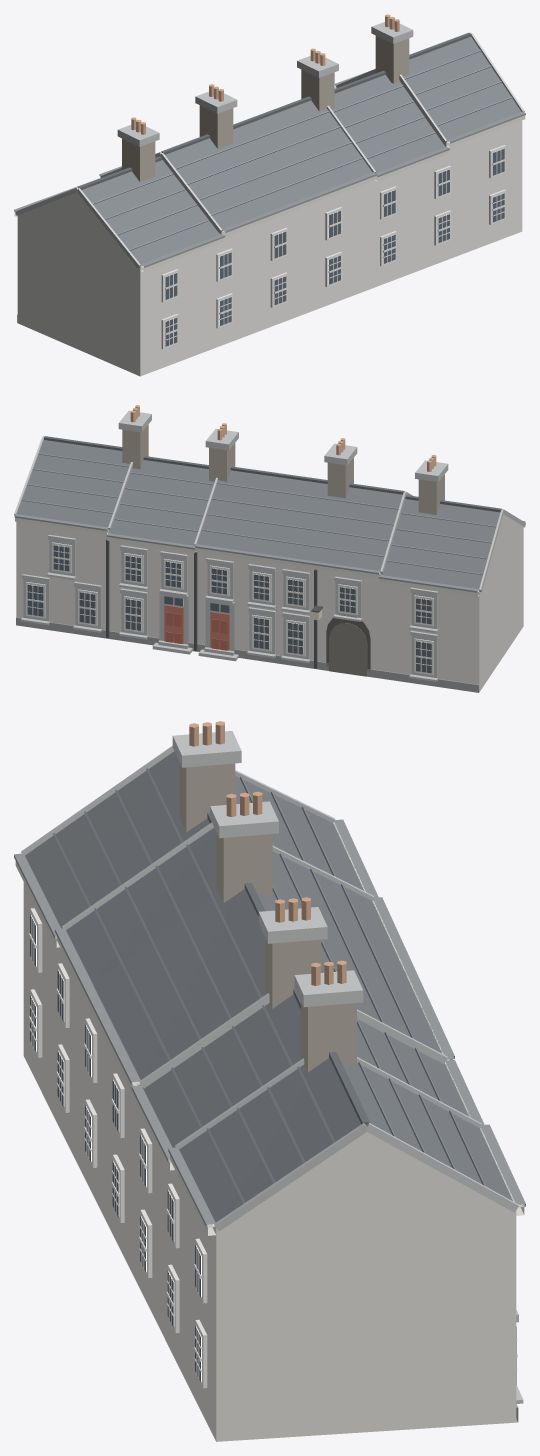
3 views of the same model, one above another, from view 1: azimuth 30°, elevation 25°; view 2: azimuth 150°, elevation 25°; view 3: azimuth 270°, elevation 25° (orthographic). The views are drawn at different scales.
Parts seen in each view (by area): view 1: harl, slate, frame, stone_band, chim_stone, slate_lt, lead, string, slate_dk, pot; view 2: slate, harl, stone_band, frame, slate_lt, chim_stone, plinth, string, lead, pend_in, slate_dk, pipe (+18 smaller); view 3: harl, slate, stone_band, chim_stone, lead, frame, slate_lt, pot, string, slate_dk.
Boxes of the visible parts, x1=… form: harl: x1=17, y1=81, x2=522, y2=376; slate: x1=81, y1=36, x2=521, y2=266; frame: x1=161, y1=145, x2=505, y2=349; stone_band: x1=15, y1=22, x2=524, y2=268; chim_stone: x1=122, y1=36, x2=409, y2=181; slate_lt: x1=92, y1=50, x2=512, y2=250; lead: x1=14, y1=70, x2=525, y2=267; string: x1=14, y1=85, x2=525, y2=272; slate_dk: x1=78, y1=32, x2=471, y2=189; pot: x1=131, y1=14, x2=399, y2=134; slate: x1=17, y1=440, x2=500, y2=590; harl: x1=16, y1=515, x2=523, y2=692; stone_band: x1=14, y1=410, x2=525, y2=681; frame: x1=26, y1=542, x2=433, y2=675; slate_lt: x1=21, y1=453, x2=496, y2=575; chim_stone: x1=122, y1=424, x2=444, y2=514; plinth: x1=16, y1=617, x2=478, y2=692; string: x1=15, y1=517, x2=524, y2=596; lead: x1=14, y1=514, x2=525, y2=592; pend_in: x1=329, y1=623, x2=367, y2=676; slate_dk: x1=44, y1=436, x2=501, y2=512; pipe: x1=106, y1=539, x2=322, y2=668; harl: x1=23, y1=882, x2=516, y2=1441; slate: x1=25, y1=751, x2=512, y2=1222; stone_band: x1=21, y1=731, x2=523, y2=1403; chim_stone: x1=179, y1=762, x2=356, y2=1072; lead: x1=14, y1=819, x2=525, y2=1227; frame: x1=29, y1=908, x2=517, y2=1388; slate_lt: x1=53, y1=768, x2=485, y2=1203; pot: x1=189, y1=721, x2=346, y2=985; string: x1=15, y1=823, x2=524, y2=1235; slate_dk: x1=207, y1=812, x2=369, y2=1125.
Bounding box in the file's own units: 24.02 × 10.35 × 12.3.
